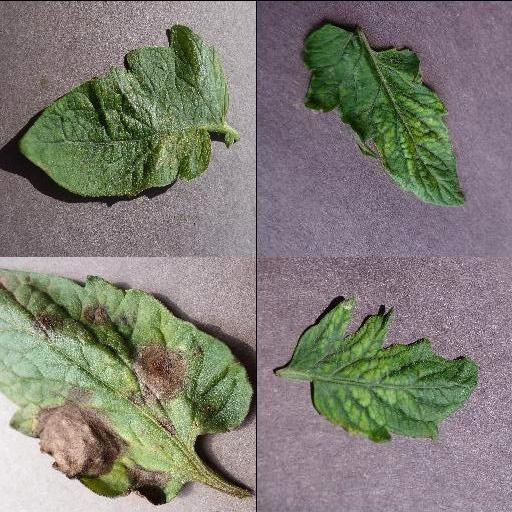Late Blight: (0, 266, 256, 504)
Mosaic Virus: (301, 21, 467, 207), (290, 298, 480, 445)
Spider Mites: (17, 23, 231, 199)
